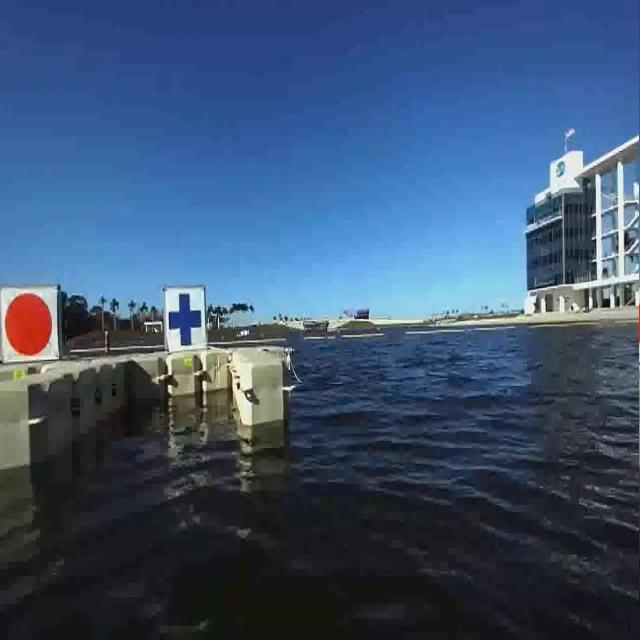blue-cross: (165, 279, 208, 358)
red-dot: (2, 286, 64, 354)
